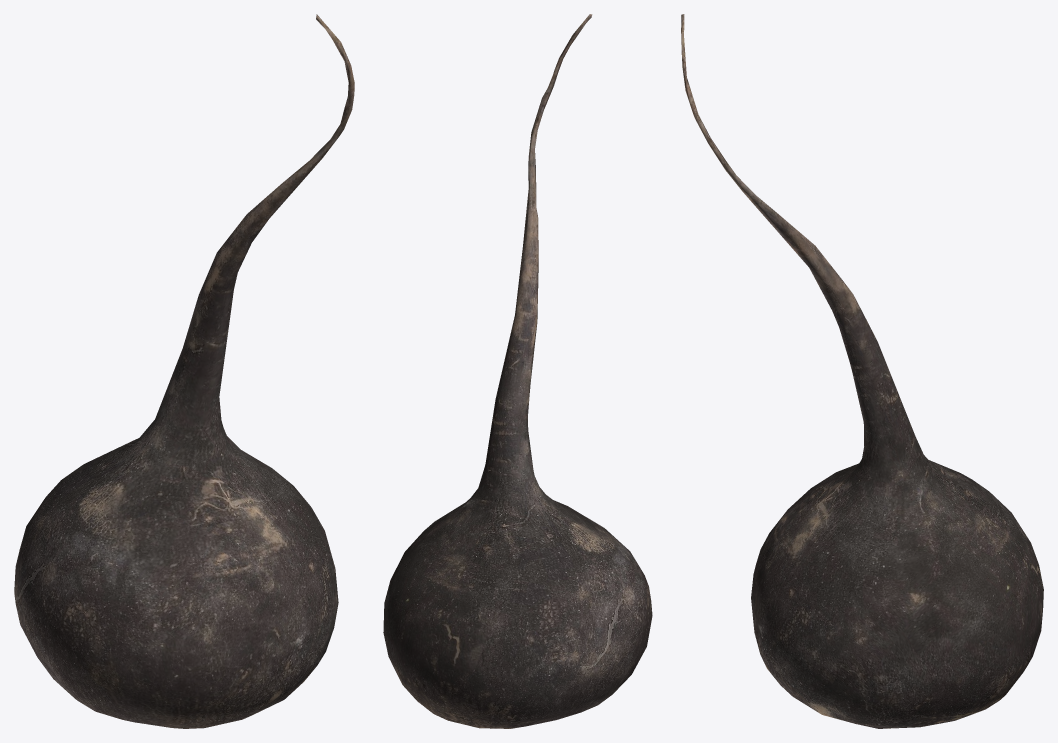
Rendered from 45_beet.glb.
3 views of the same model, side by side, from view 1: azimuth 30°, elevation 25°; view 2: azimuth 150°, elevation 25°; view 3: azimuth 270°, elevation 25° (orthographic). The views are drawn at different scales.
Parts seen in each view (by area): view 1: 45_radish; view 2: 45_radish; view 3: 45_radish.
Boxes of the visible parts, left/top/right/bottom form: 45_radish: left=14, top=14, right=354, bottom=728; 45_radish: left=383, top=14, right=652, bottom=728; 45_radish: left=681, top=14, right=1043, bottom=728.
Size of the model in its own units: 0.6567 by 1.71 by 0.7965.
1 material, 1 textured.
